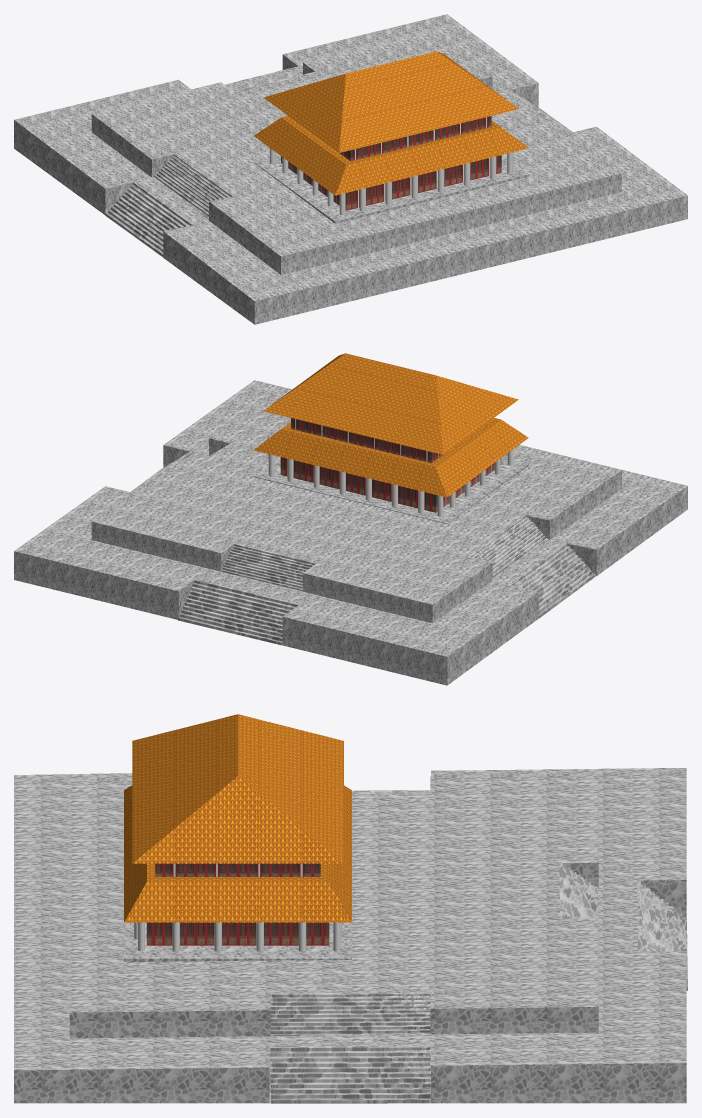
Rendered from MainBuilding.fbx.
The picture shows the model from 3 angles, top to bottom: view 1: azimuth 30°, elevation 25°; view 2: azimuth 150°, elevation 25°; view 3: azimuth 270°, elevation 25°; orthographic projection. The views are drawn at different scales.
Parts seen in each view (by area): view 1: SecondStair, Stair, Box005, Box003, MainBuild, StraightStair004, Box006, StraightStair005, Box004; view 2: Stair, SecondStair, Box005, Box003, StraightStair006, MainBuild, StraightStair004, Box006, StraightStair007, StraightStair005, Box004; view 3: Stair, SecondStair, Box005, Box003, StraightStair002, StraightStair003, MainBuild, Box006, StraightStair006, Box004, StraightStair007.
Part boxes in pixels (x1,y1,x2,y2): SecondStair: (14,14,687,324); Stair: (91,30,621,274); Box005: (263,51,518,152); Box003: (254,116,528,195); MainBuild: (253,155,529,223); StraightStair004: (105,182,193,256); Box006: (281,155,501,210); StraightStair005: (154,154,233,219); Box004: (339,116,491,161); Stair: (91,387,621,623); SecondStair: (14,380,687,685); Box005: (263,353,518,454); Box003: (253,418,528,497); StraightStair006: (178,579,299,645); MainBuild: (253,457,528,523); StraightStair004: (509,543,595,618); Box006: (280,457,501,512); StraightStair007: (221,543,316,591); StraightStair005: (470,515,548,577); Box004: (291,418,442,463); Stair: (69,774,598,1038); SecondStair: (14,768,686,1103); Box005: (132,714,343,863); Box003: (124,785,351,922); StraightStair002: (270,1046,430,1103); StraightStair003: (270,993,430,1036); MainBuild: (124,922,351,961); Box006: (146,922,329,945); StraightStair006: (637,881,687,990); Box004: (155,863,320,876); StraightStair007: (559,862,598,919).
Bounding box in the file's own units: 143 × 47.54 × 138.
